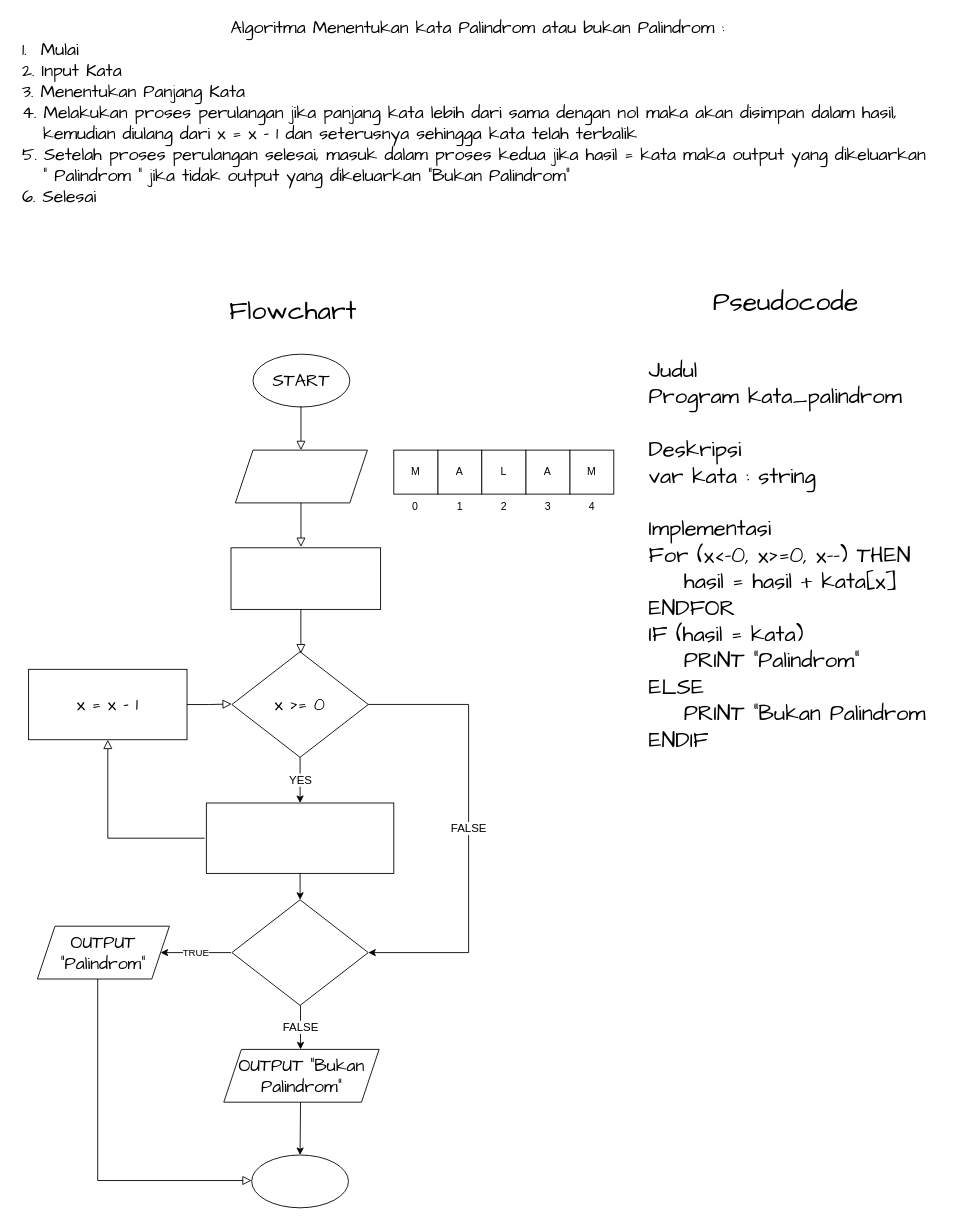
This 954x1223 diagram has some shape labels left out. Here are the shapes that lost their labels. From the top down, the centre of each, then its label:
[301,476]: INPUT kata
[305,578]: hasil = "" x = kata.length - 1
[299,837]: hasil = hasil + kata[x]
[299,952]: hasil == kata
[299,1181]: END
